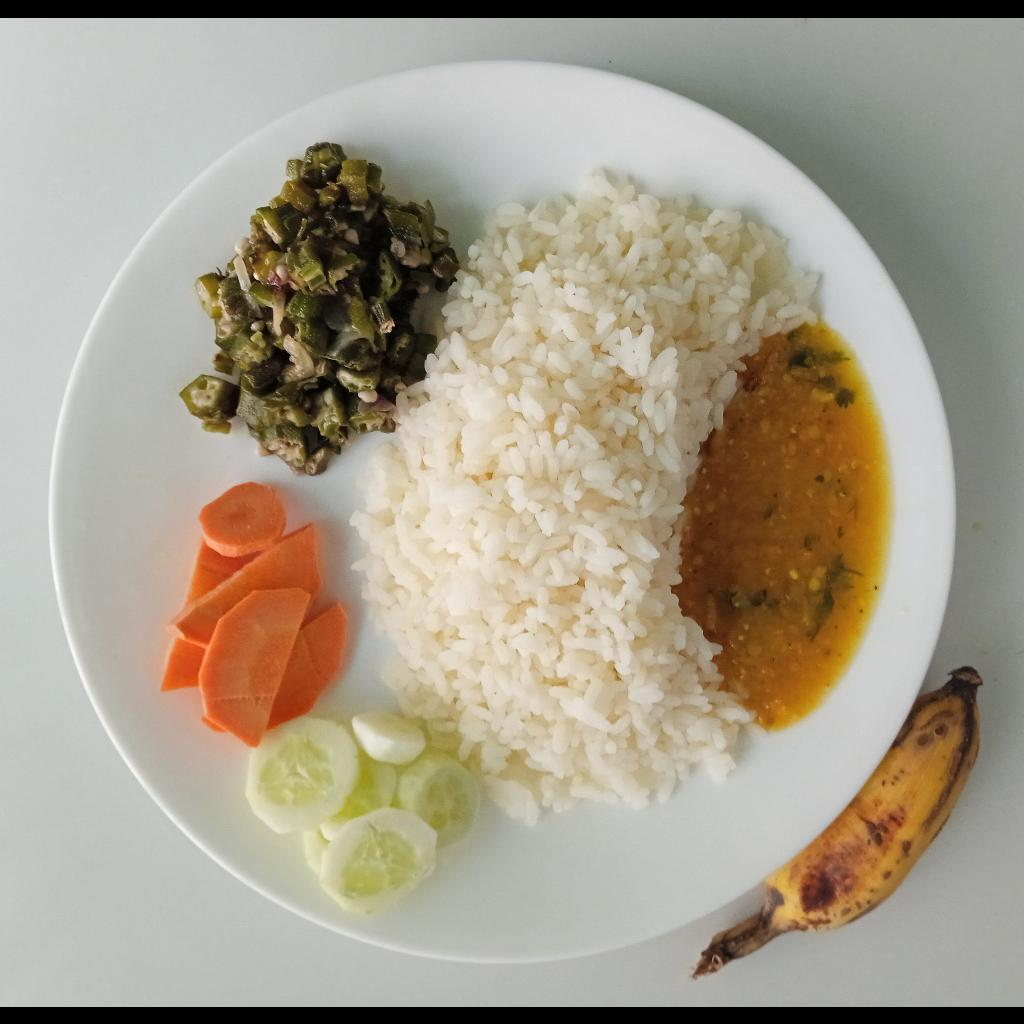banana: (693, 664, 987, 976)
carrot: (159, 480, 350, 748)
cucumber: (245, 708, 479, 917)
daal: (677, 321, 894, 723)
okra: (179, 141, 457, 474)
rice: (350, 170, 822, 820)
